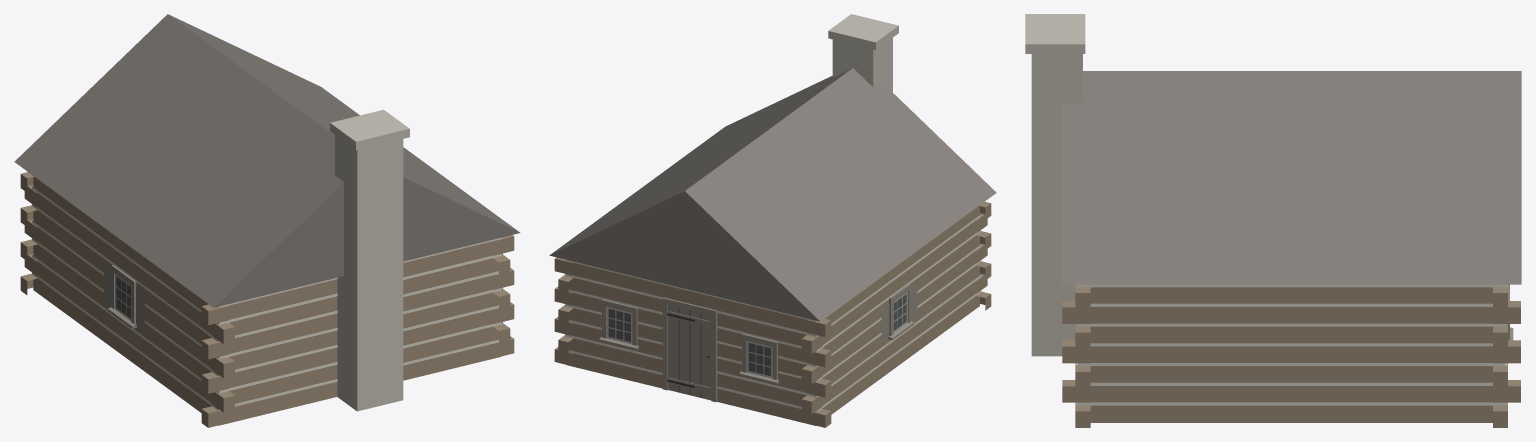
The model's file is recon_1835_blk_south_water_wells_d1_07__inferred_1835.glb.
3 views of the same model, side by side, from view 1: azimuth 30°, elevation 25°; view 2: azimuth 150°, elevation 25°; view 3: azimuth 270°, elevation 25° (orthographic). The views are drawn at different scales.
Parts seen in each view (by area): view 1: recon_1835_blk_south_water_wells_d1_07__inferred_1835; view 2: recon_1835_blk_south_water_wells_d1_07__inferred_1835; view 3: recon_1835_blk_south_water_wells_d1_07__inferred_1835.
Part boxes in pixels (x1,y1,x2,y2): recon_1835_blk_south_water_wells_d1_07__inferred_1835: (14,14,520,427); recon_1835_blk_south_water_wells_d1_07__inferred_1835: (549,14,996,427); recon_1835_blk_south_water_wells_d1_07__inferred_1835: (1025,14,1521,427).
Size of the model in its own units: 6.39 by 5.42 by 7.76.
